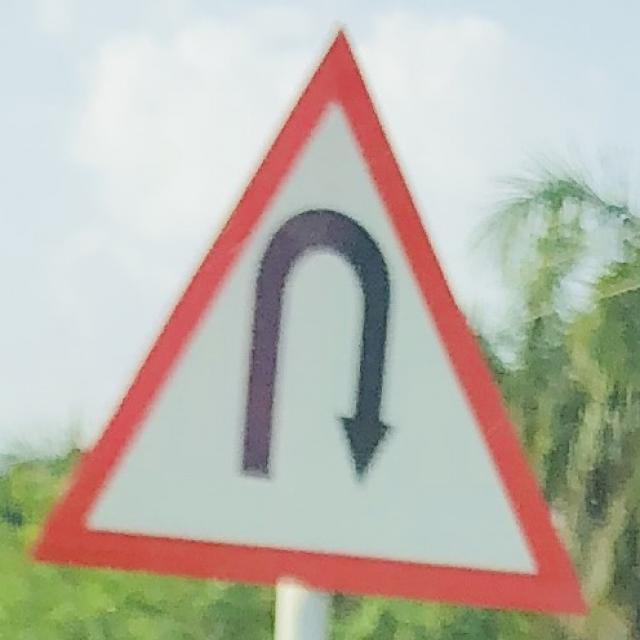u turn: (30, 39, 587, 617)
